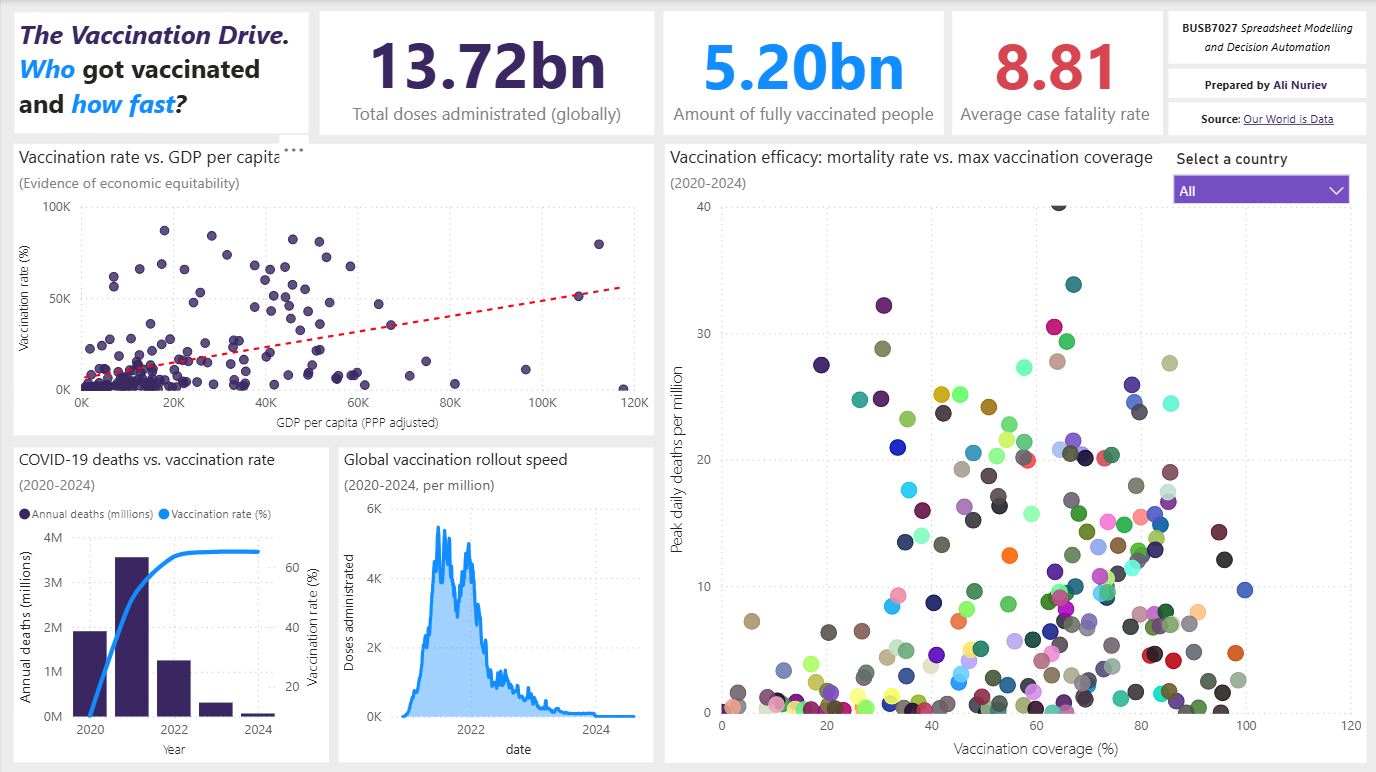

Layout of this report page (visuals, bound fields, positions):
{"tool":"powerbi","page":{"name":"2. Vaccination Drive","canvas":[1280,720],"ordinal":2},"visuals":[{"type":"lineStackedColumnComboChart","title":"COVID-19 deaths vs. vaccination rate","fields":{"Y":["Sum(compact.new_deaths_smoothed)"],"Y2":["Max(compact.people_fully_vaccinated_per_hundred)"],"Category":["compact.date.Variation.Date Hierarchy.Year"]},"box":[11.1,415.8,293.7,293.2],"z":0},{"type":"scatterChart","title":"Vaccination efficacy: mortality rate vs. max vaccination coverage","fields":{"X":["Max(compact.people_fully_vaccinated_per_hundred)"],"Y":["Max(compact.new_deaths_smoothed_per_million)"],"Series":["compact.country"]},"box":[617,134.2,653,575.9],"z":1000},{"type":"scatterChart","title":"Vaccination rate vs. GDP per capita ","fields":{"X":["Max(compact.gdp_per_capita)"],"Y":["Sum(compact.people_fully_vaccinated_per_hundred)"],"Category":["compact.country"]},"box":[11.2,133.8,596.2,271.2],"z":2000},{"type":"card","fields":{"Values":["Avg(case-fatality-rate-of-covid-19.Case fatality rate of COVID-19 (%))"]},"box":[884.7,10,195.9,115.3],"z":3000},{"type":"textbox","box":[11.4,10,275.4,114.6],"z":4000},{"type":"card","fields":{"Values":["Max(compact.total_vaccinations)"]},"box":[296.7,10,311.2,115],"z":5000},{"type":"card","fields":{"Values":["Max(number-of-people-who-completed-the-initial-covid-19-vaccination-protocol.People fully vaccinated (cumulative))"]},"box":[616.5,10,261.2,115.3],"z":6000},{"type":"areaChart","title":"Global vaccination rollout speed","fields":{"Y":["Max(compact.new_vaccinations_smoothed_per_million)"],"Category":["compact.date"]},"box":[314,416,293,293],"z":7000},{"type":"textbox","box":[1085.7,94.8,184.3,30],"z":8000},{"type":"textbox","box":[1085.7,63.5,184.3,27.4],"z":9000},{"type":"textbox","box":[1085.8,10,184.2,48.4],"z":10000},{"type":"slicer","fields":{"Values":["compact.country"]},"box":[1080.7,134,184.7,58],"z":11500}]}

Visuals, with their boxes in screenshot pixels (x1, y1, x2, y2), scaled from the page's 1280x720 canvas onto the 1376x772 screenshot:
"COVID-19 deaths vs. vaccination rate" lineStackedColumnComboChart: 12, 446, 328, 760
"Vaccination efficacy: mortality rate vs. max vaccination coverage" scatterChart: 663, 144, 1365, 761
"Vaccination rate vs. GDP per capita " scatterChart: 12, 143, 653, 434
card - Avg(case-fatality-rate-of-covid-19.Case fatality rate of COVID-19 (%)): 951, 11, 1162, 134
textbox: 12, 11, 308, 134
card - Max(compact.total_vaccinations): 319, 11, 653, 134
card - Max(number-of-people-who-completed-the-initial-covid-19-vaccination-protocol.People fully vaccinated (cumulative)): 663, 11, 944, 134
"Global vaccination rollout speed" areaChart: 338, 446, 653, 760
textbox: 1167, 102, 1365, 134
textbox: 1167, 68, 1365, 97
textbox: 1167, 11, 1365, 63
slicer - compact.country: 1162, 144, 1360, 206
